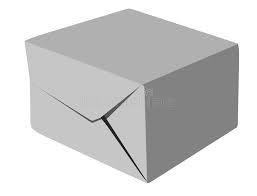cardboard: (23, 8, 238, 182)
